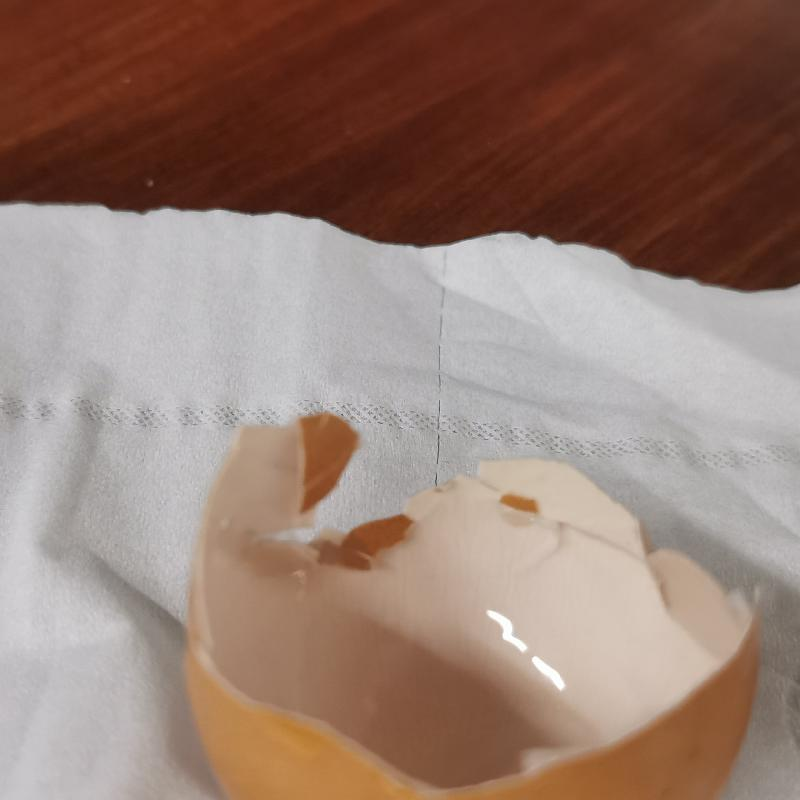eggshell: (176, 418, 767, 800)
